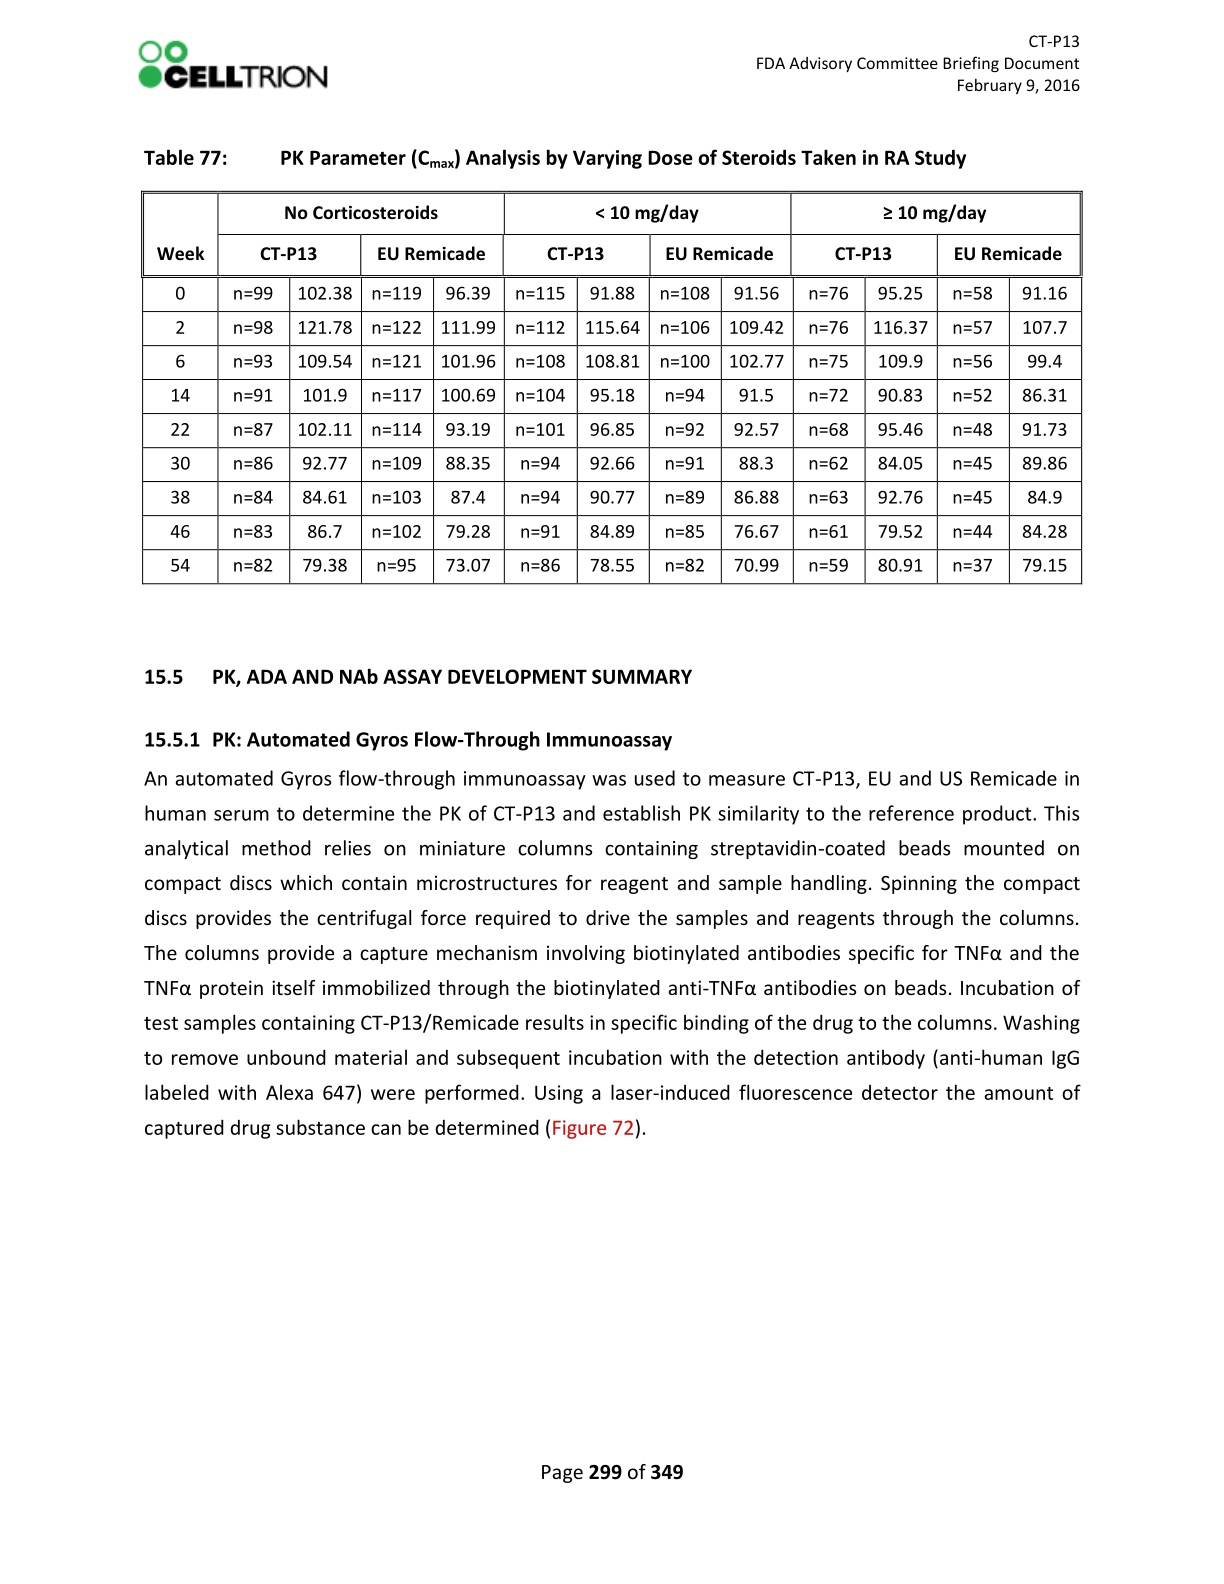merged_cells: (139, 188, 1084, 586)
